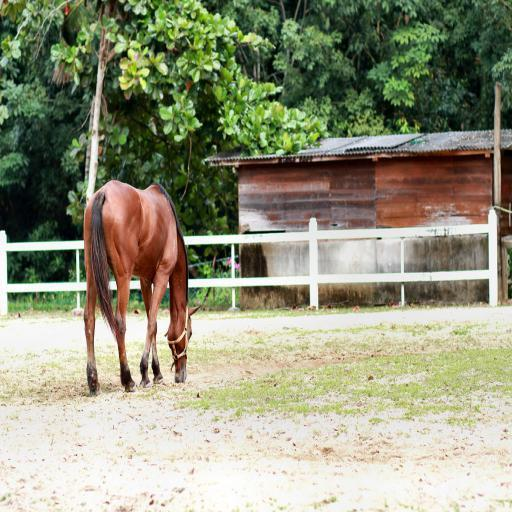horse: (80, 176, 198, 396)
